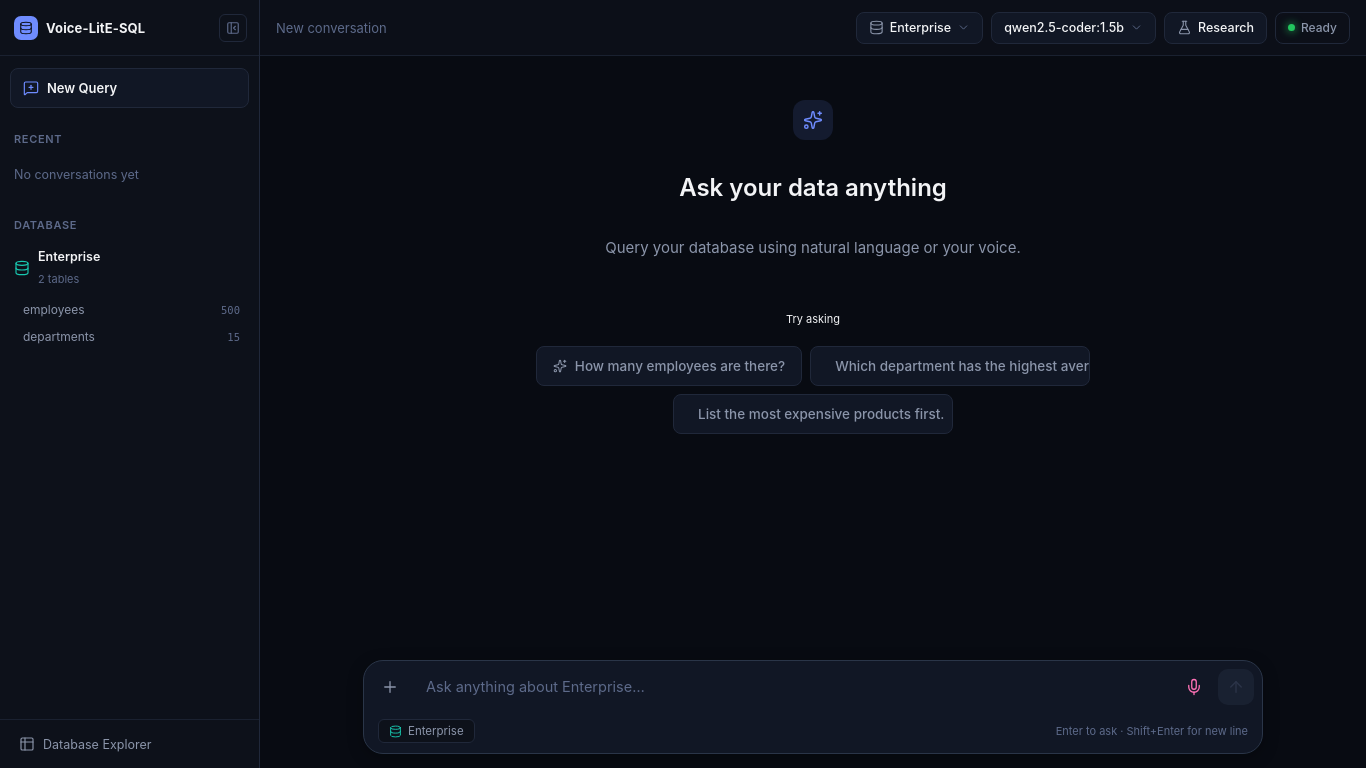
it: text query flow › displays an error banner when the pipeline fails
In the text box with placeholder "Ask anything about Enterprise…": (792, 687) [414,669,1170,705], type "show me the moon"
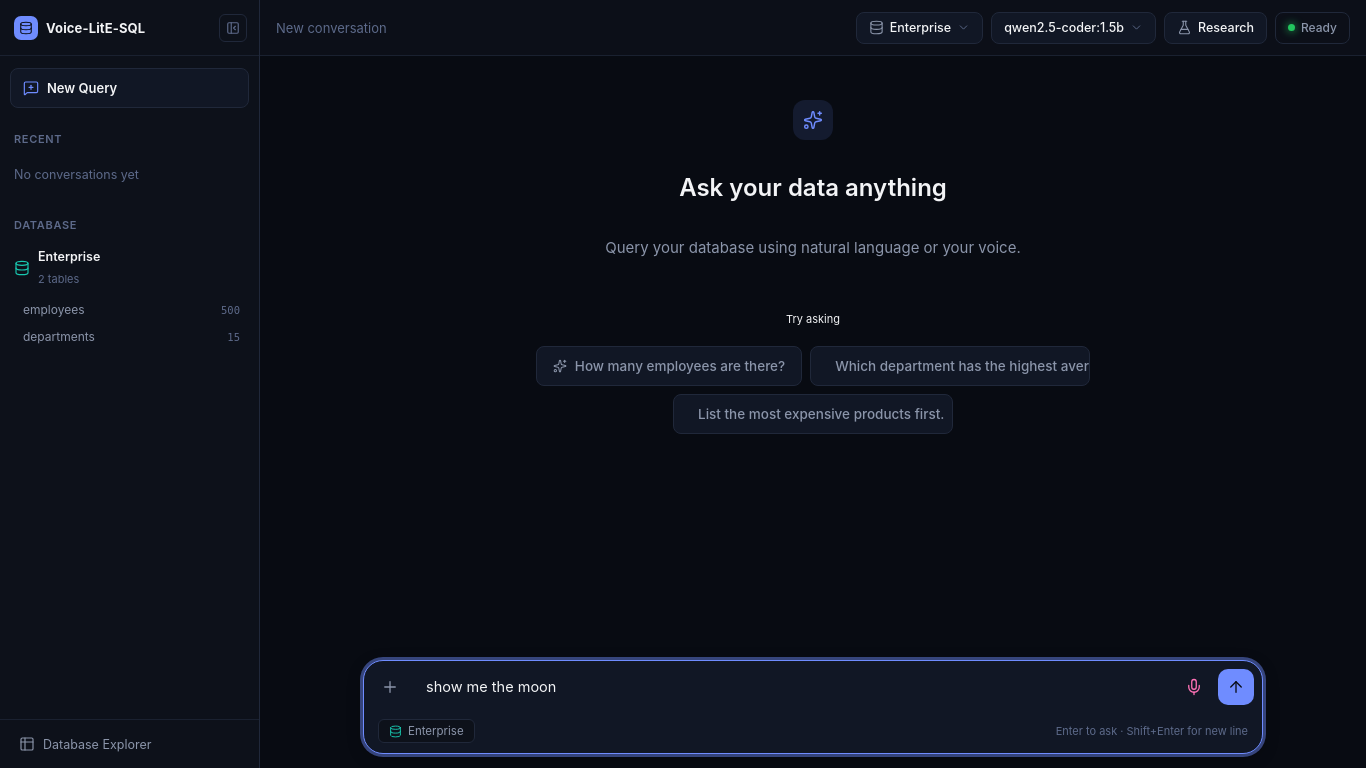
Click the button named "Send": (1236, 687) [1218,669,1254,705]
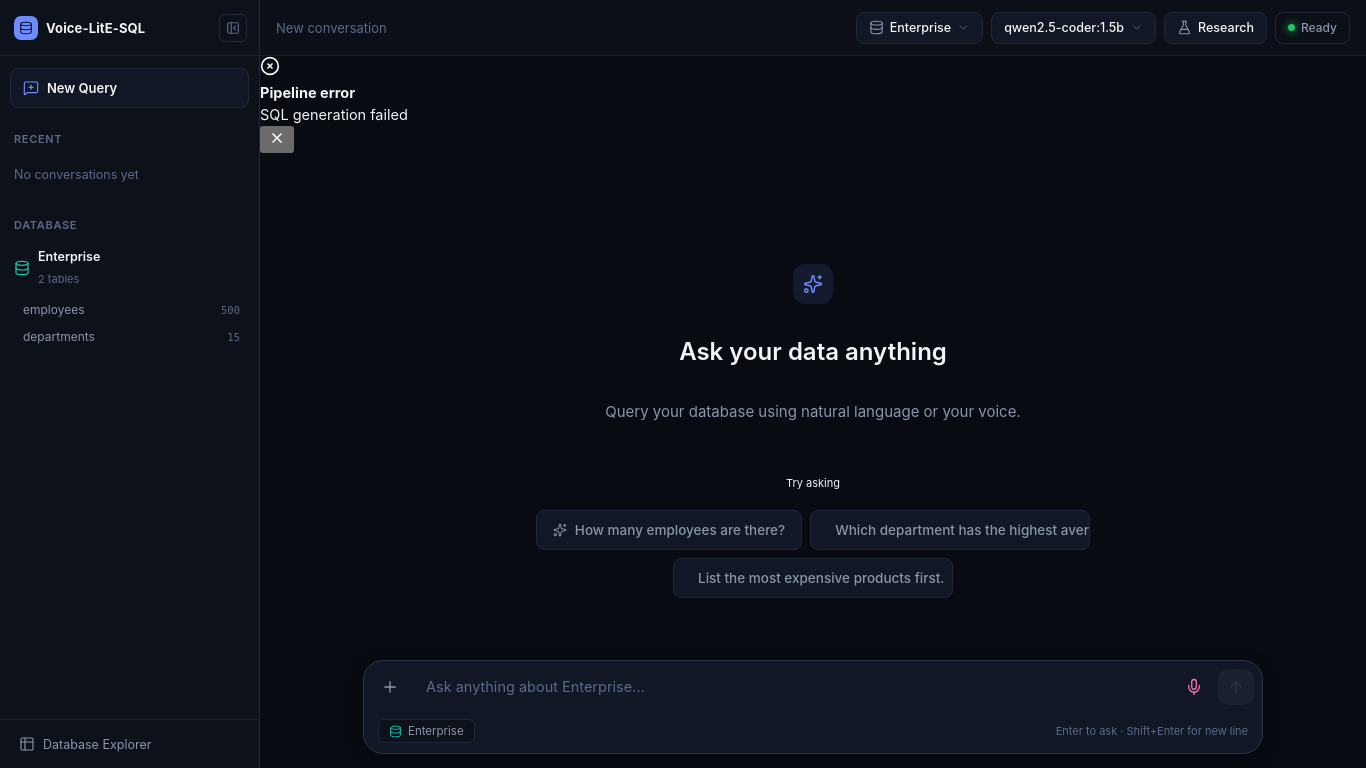
Expected: the text "Pipeline error" is shown, [260,84,355,101]
Expected: the text "SQL generation failed" is shown, [260,106,408,123]
